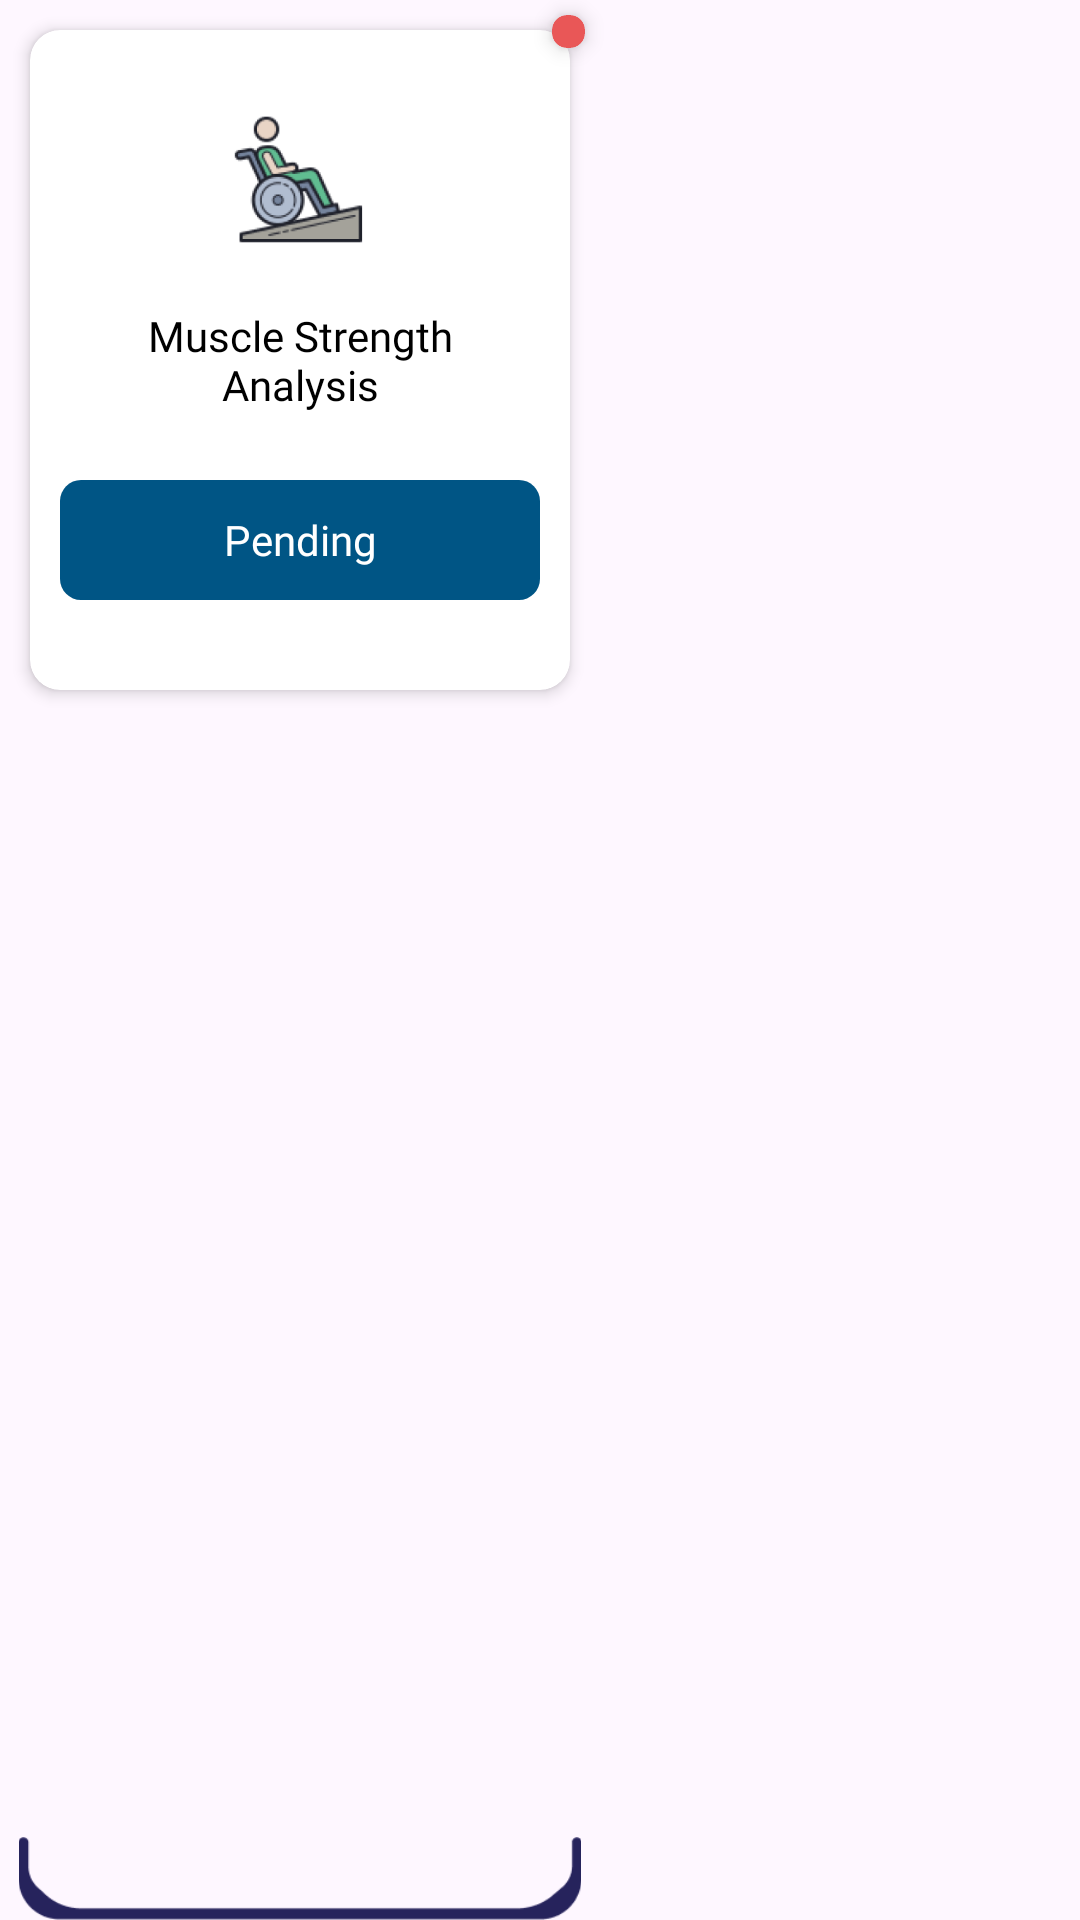

Icon bounding boxes for this 1080x1920 phone screenshot, format box=[x1, y1, x2, y2]:
wheelchair annan: box=[234, 116, 362, 243]
